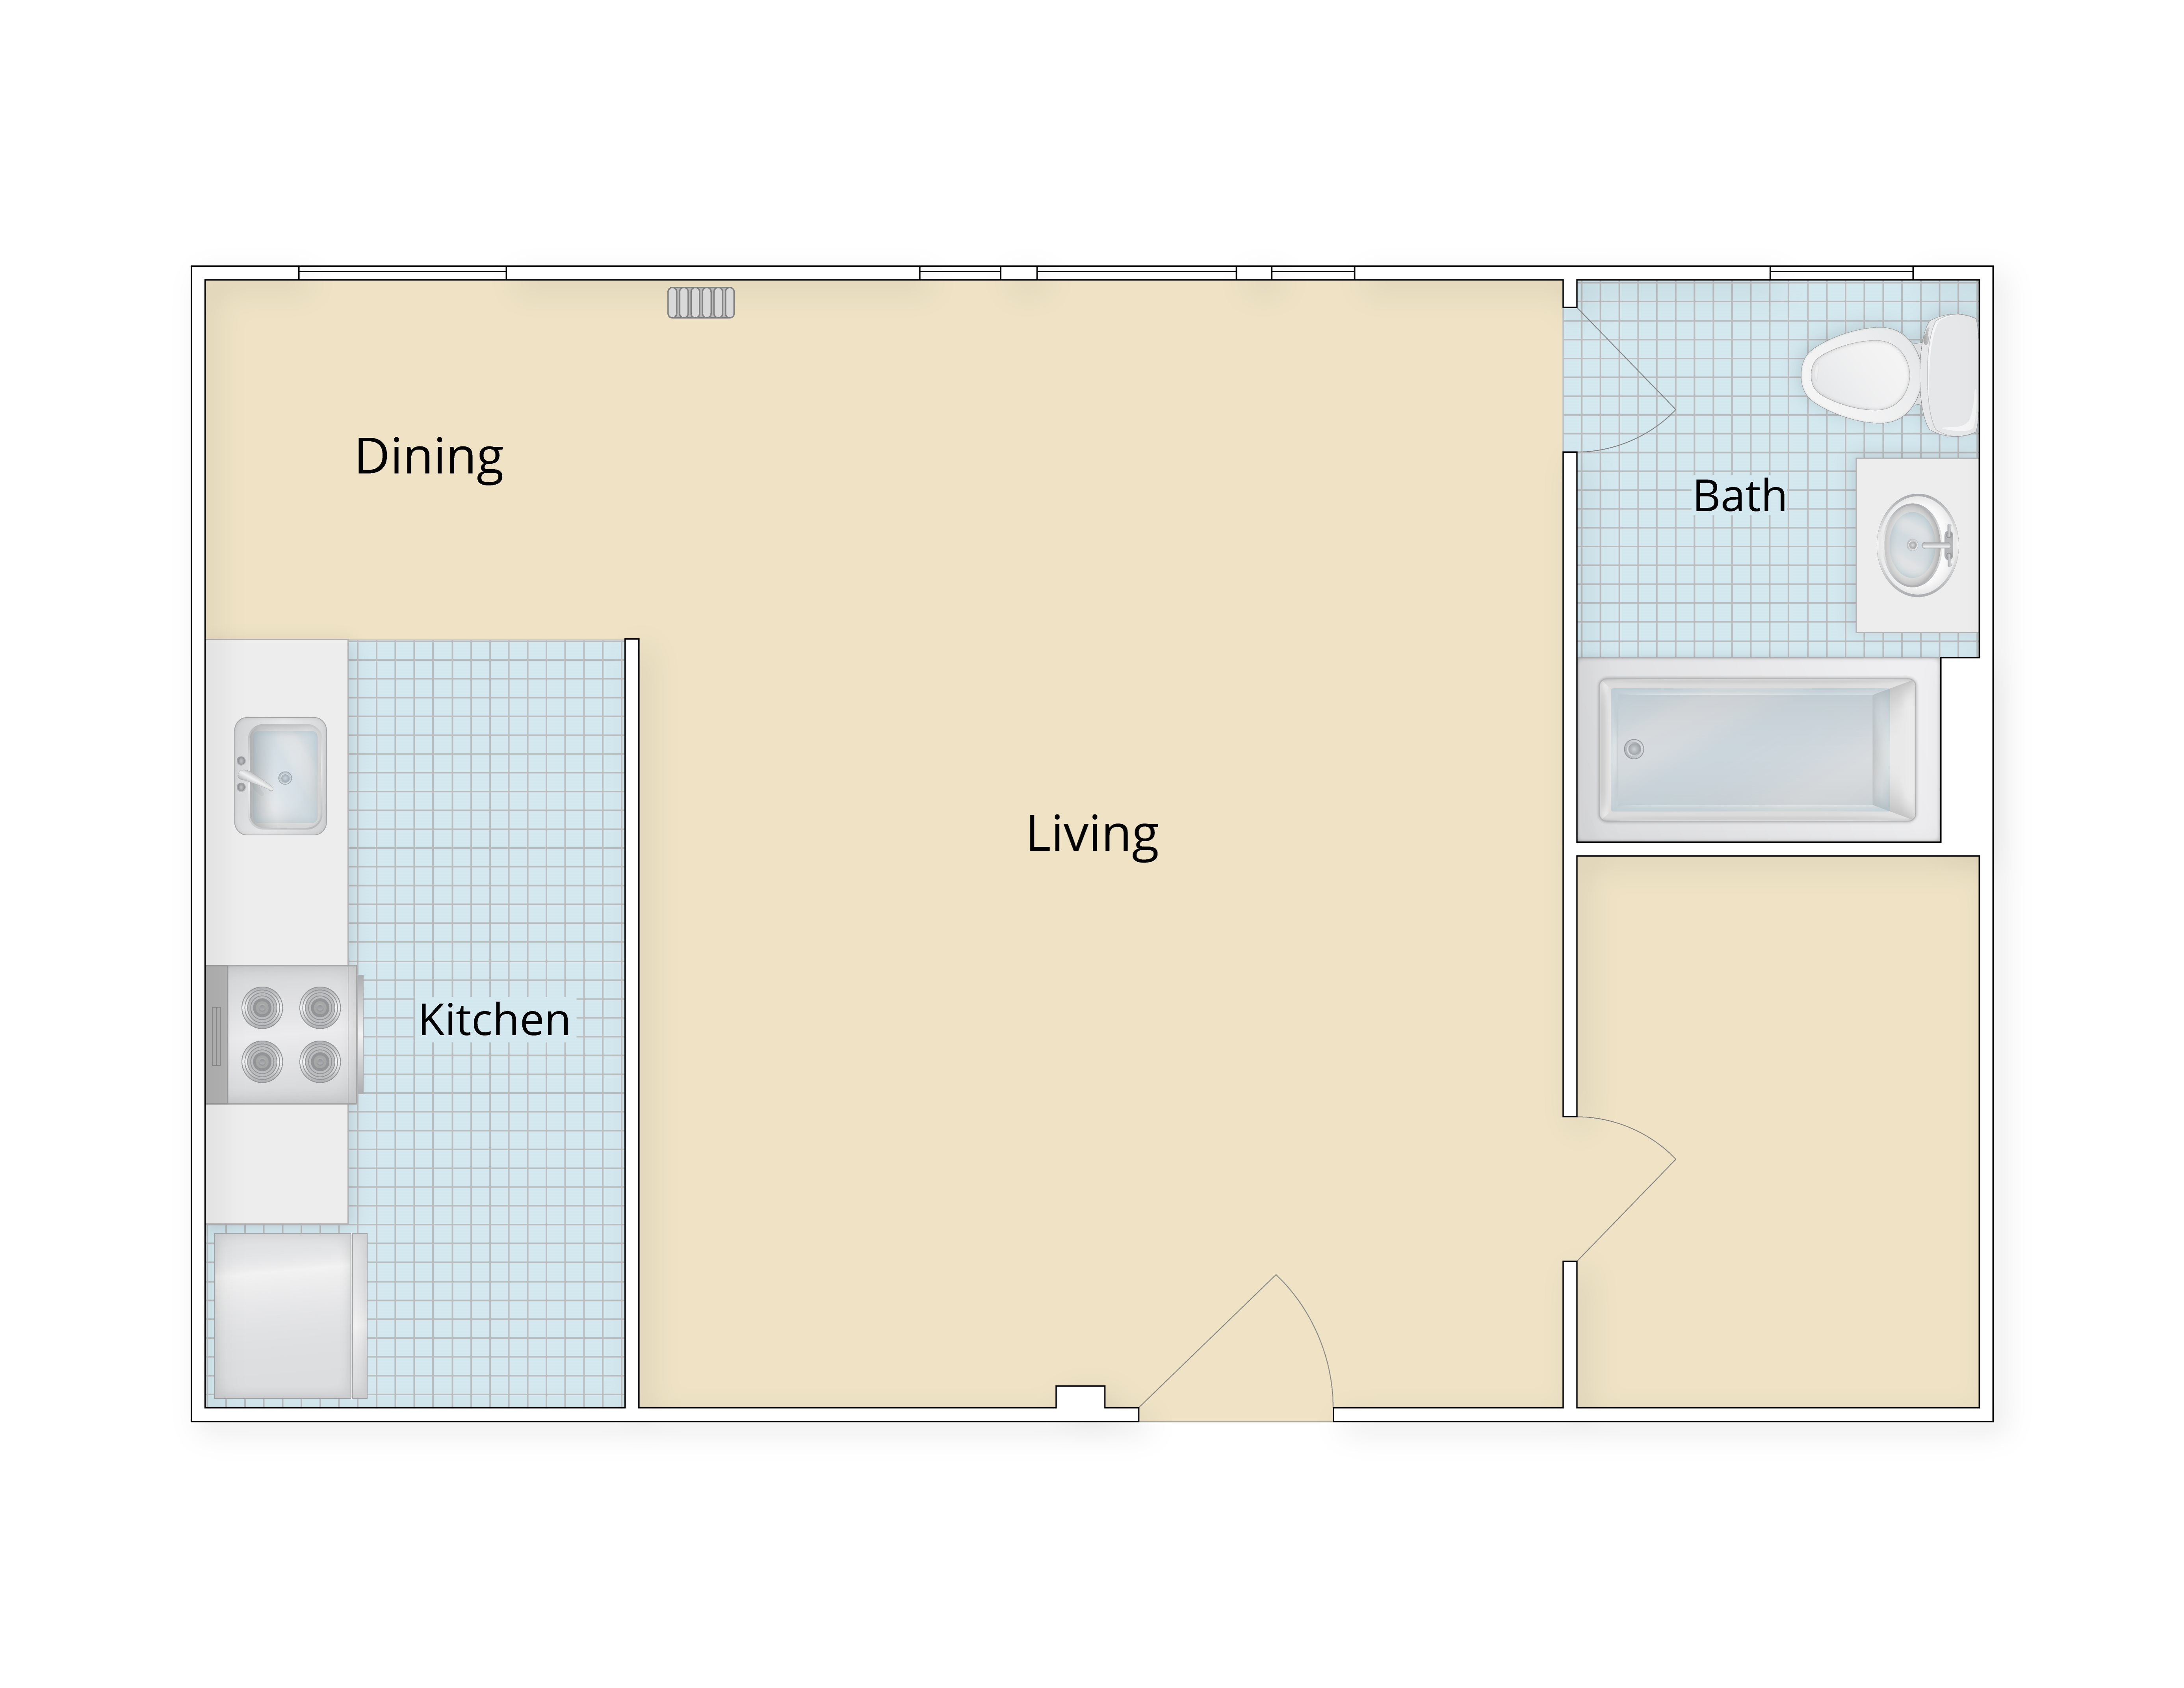door: (1138, 1275, 1335, 1429), (1558, 1115, 1681, 1262)
